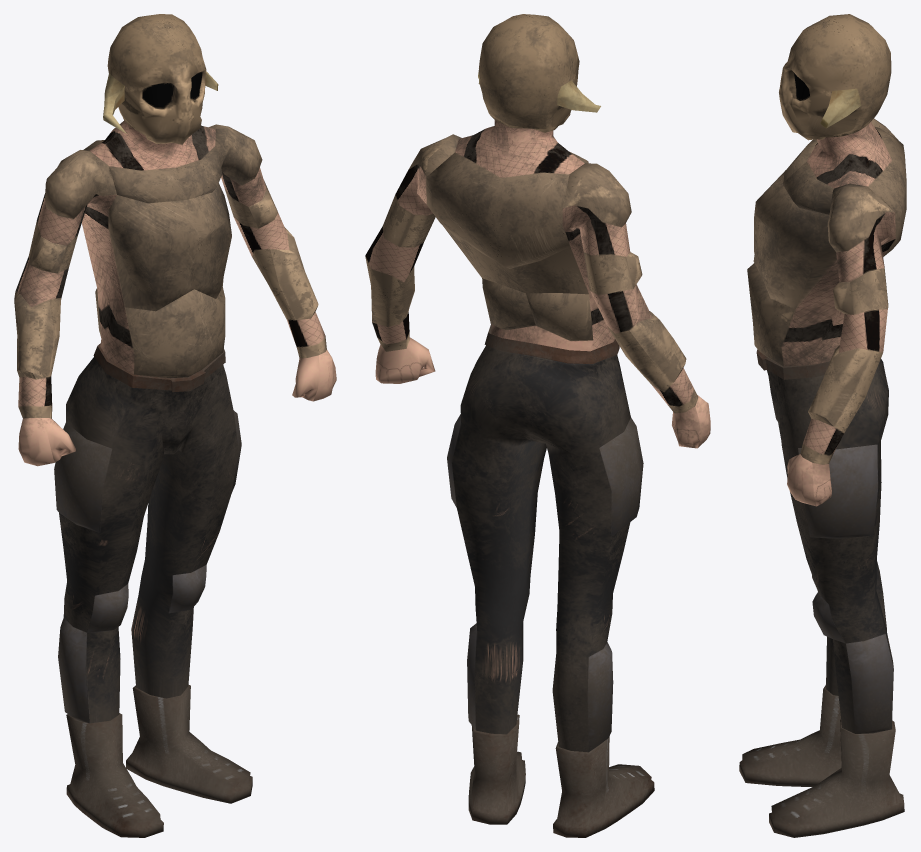
The model's file is Anim_interruptor_npc1.0040.obj.
3 renders of one model, left to right at view 1: azimuth 30°, elevation 25°; view 2: azimuth 150°, elevation 25°; view 3: azimuth 270°, elevation 25°, orthographic. The views are drawn at different scales.
Parts seen in each view (by area): view 1: NPC2; view 2: NPC2; view 3: NPC2.
Boxes of the visible parts, bbox=[...] form: NPC2: bbox=[14, 14, 336, 837]; NPC2: bbox=[365, 14, 710, 837]; NPC2: bbox=[739, 14, 906, 837].
Size of the model in its own units: 4.18 by 9.66 by 1.87.
